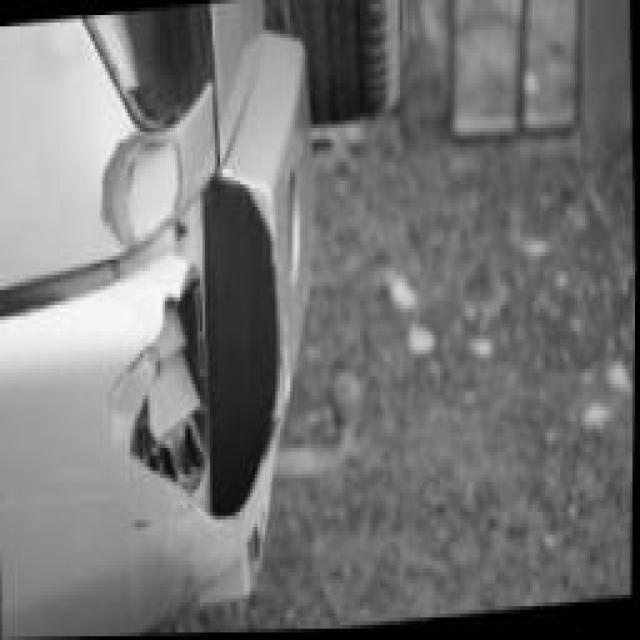Bumper: (75, 241, 289, 619)
Fender: (70, 90, 217, 256)
